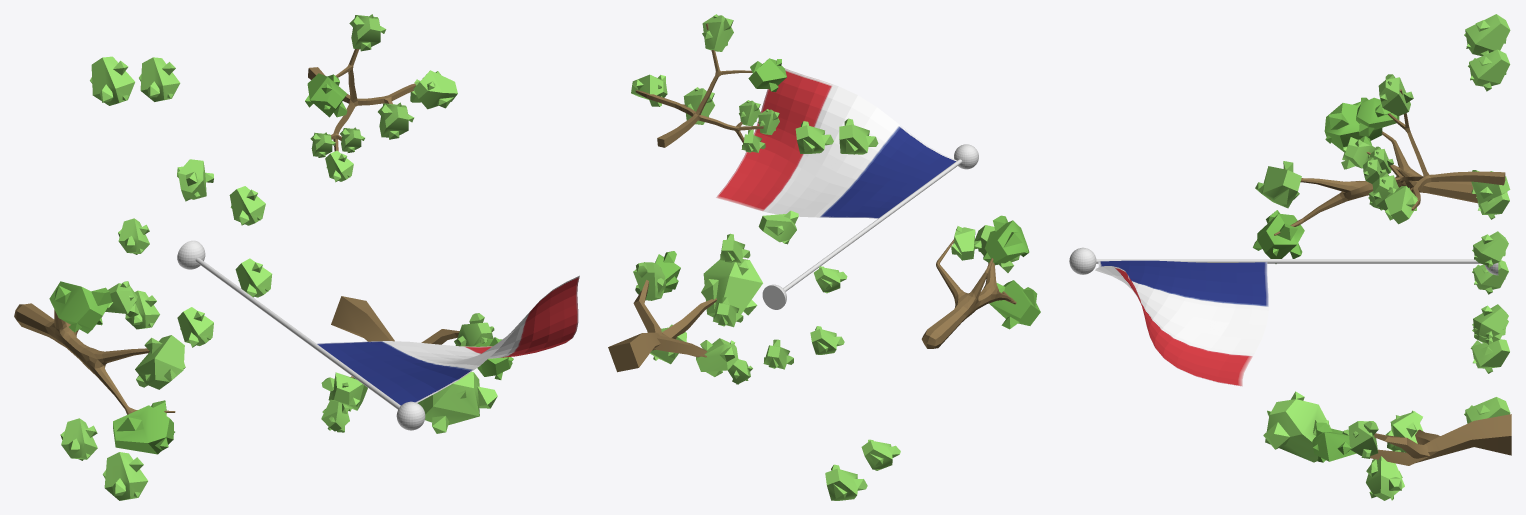
Rendered from paris.glb.
3 views of the same model, side by side, from view 1: azimuth 30°, elevation 25°; view 2: azimuth 150°, elevation 25°; view 3: azimuth 270°, elevation 25° (orthographic). The views are drawn at different scales.
Parts seen in each view (by area): view 1: BranchesCBranchesuBranchesbBrancheseBranches.Branches0Branc. (×23), Plane.027, Empty.107, Trunk.009, Cylinder.018, Plane_Material_002_0.006, BranchesCBranchesuBranchesbBrancheseBranchesBranch.009, Sphere.069, Sphere.068; view 2: Plane.027, BranchesCBranchesuBranchesbBrancheseBranches.Branches0Branc. (×20), Trunk.009, Empty.107, Plane_Material_002_0.006, Cylinder.018, BranchesCBranchesuBranchesbBrancheseBranchesBranch.009, Sphere.068, Sphere.069; view 3: BranchesCBranchesuBranchesbBrancheseBranches.Branches0Branc. (×21), Plane.027, Trunk.009, Empty.107, Plane_Material_002_0.006, Cylinder.018, BranchesCBranchesuBranchesbBrancheseBranchesBranch.009, Sphere.069.
Boxes of the visible parts, x1=… form: BranchesCBranchesuBranchesbBrancheseBranches.Branches0Branc. (×23): x1=49, y1=14, x2=513, y2=500; Plane.027: x1=317, y1=275, x2=579, y2=405; Empty.107: x1=14, y1=303, x2=175, y2=414; Trunk.009: x1=331, y1=296, x2=459, y2=377; Cylinder.018: x1=195, y1=257, x2=400, y2=409; Plane_Material_002_0.006: x1=308, y1=49, x2=415, y2=151; BranchesCBranchesuBranchesbBrancheseBranchesBranch.009: x1=454, y1=313, x2=494, y2=346; Sphere.069: x1=396, y1=401, x2=425, y2=430; Sphere.068: x1=177, y1=240, x2=205, y2=269; Plane.027: x1=716, y1=68, x2=956, y2=218; BranchesCBranchesuBranchesbBrancheseBranches.Branches0Branc. (×20): x1=631, y1=14, x2=1040, y2=500; Trunk.009: x1=608, y1=280, x2=716, y2=372; Empty.107: x1=921, y1=239, x2=1016, y2=348; Plane_Material_002_0.006: x1=635, y1=23, x2=763, y2=147; Cylinder.018: x1=783, y1=159, x2=962, y2=291; BranchesCBranchesuBranchesbBrancheseBranchesBranch.009: x1=633, y1=262, x2=666, y2=300; Sphere.068: x1=762, y1=284, x2=786, y2=309; Sphere.069: x1=954, y1=144, x2=978, y2=169; BranchesCBranchesuBranchesbBrancheseBranches.Branches0Branc. (×21): x1=1253, y1=14, x2=1510, y2=500; Plane.027: x1=1095, y1=260, x2=1268, y2=386; Trunk.009: x1=1370, y1=414, x2=1511, y2=465; Empty.107: x1=1270, y1=131, x2=1477, y2=235; Plane_Material_002_0.006: x1=1387, y1=89, x2=1505, y2=210; Cylinder.018: x1=1096, y1=259, x2=1479, y2=263; BranchesCBranchesuBranchesbBrancheseBranchesBranch.009: x1=1342, y1=421, x2=1378, y2=458; Sphere.069: x1=1069, y1=247, x2=1096, y2=274.
Size of what is drawn, in the model's own units: 2.69 by 2.75 by 2.46.
29 materials, 1 textured.
